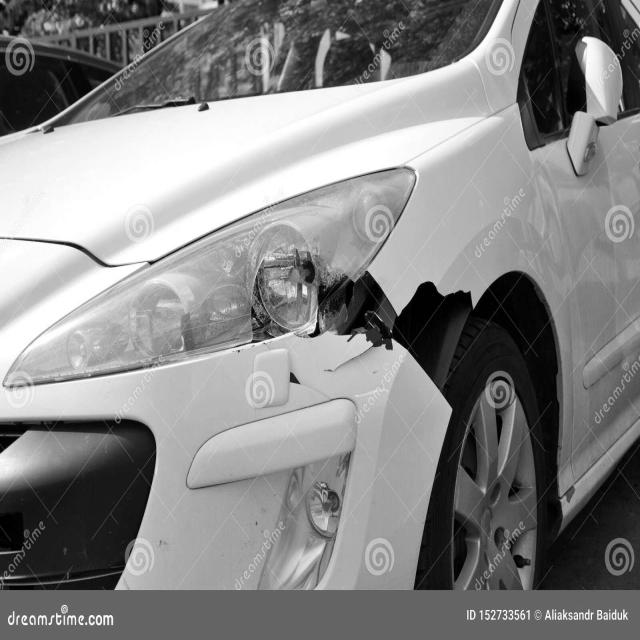crush: (220, 218, 481, 410)
